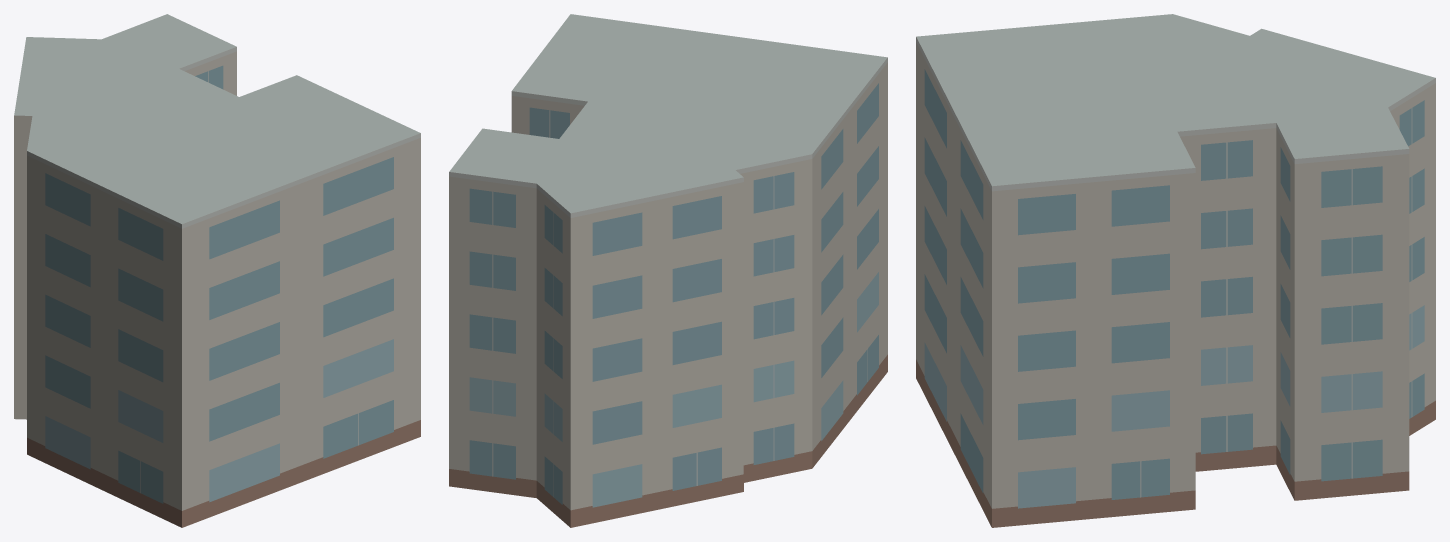
The model's file is survey-upis-32771129.glb.
3 renders of one model, left to right at view 1: azimuth 30°, elevation 25°; view 2: azimuth 150°, elevation 25°; view 3: azimuth 270°, elevation 25°, orthographic. The views are drawn at different scales.
Parts seen in each view (by area): view 1: survey-upis-32771129.tmp; view 2: survey-upis-32771129.tmp; view 3: survey-upis-32771129.tmp.
Boxes of the visible parts, box(x1,y1,x2,y2) form: survey-upis-32771129.tmp: box(14, 14, 420, 527); survey-upis-32771129.tmp: box(449, 14, 887, 527); survey-upis-32771129.tmp: box(916, 14, 1435, 527).
Bounding box in the file's own units: 17.6 × 16.27 × 22.44.
